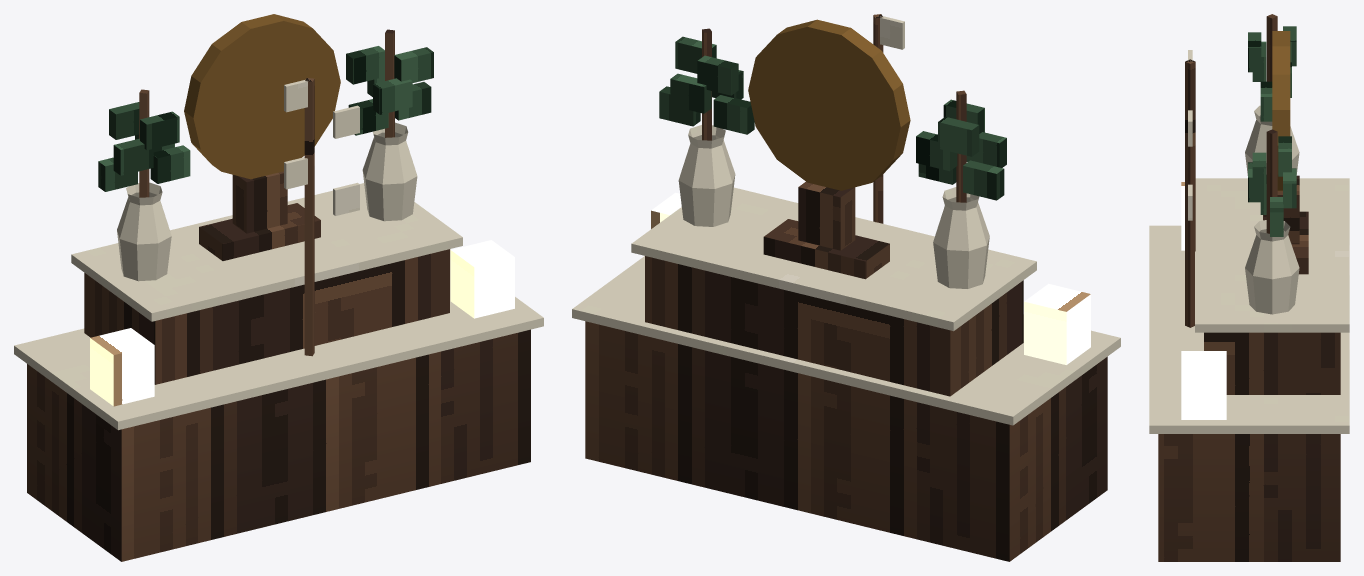
Rendered from JP_Prop_ShrineAltar_A.glb.
3 renders of one model, left to right at view 1: azimuth 30°, elevation 25°; view 2: azimuth 150°, elevation 25°; view 3: azimuth 270°, elevation 25°, orthographic. The views are drawn at different scales.
Parts seen in each view (by area): view 1: JP_Prop_ShrineAltar_A; view 2: JP_Prop_ShrineAltar_A; view 3: JP_Prop_ShrineAltar_A.
Part boxes in pixels (<box>): JP_Prop_ShrineAltar_A: <box>14,14,543,561</box>; JP_Prop_ShrineAltar_A: <box>572,14,1120,561</box>; JP_Prop_ShrineAltar_A: <box>1149,14,1349,561</box>.
Size of the model in its own units: 1.04 by 1.04 by 0.44.
5 materials, 5 textured.
